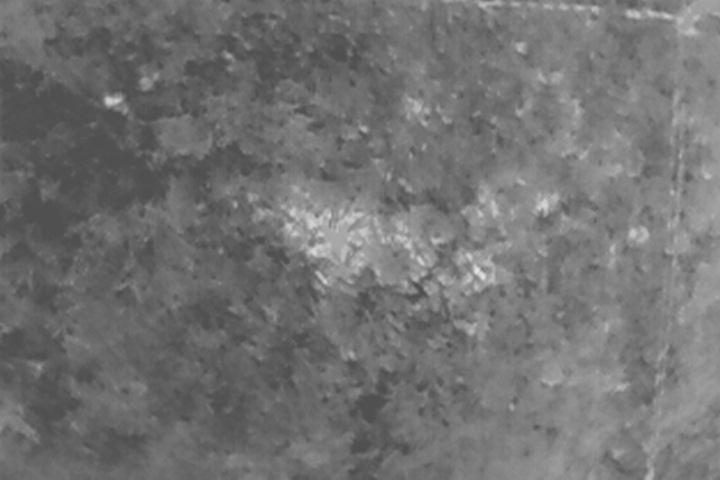landmine: (291, 203, 344, 253)
